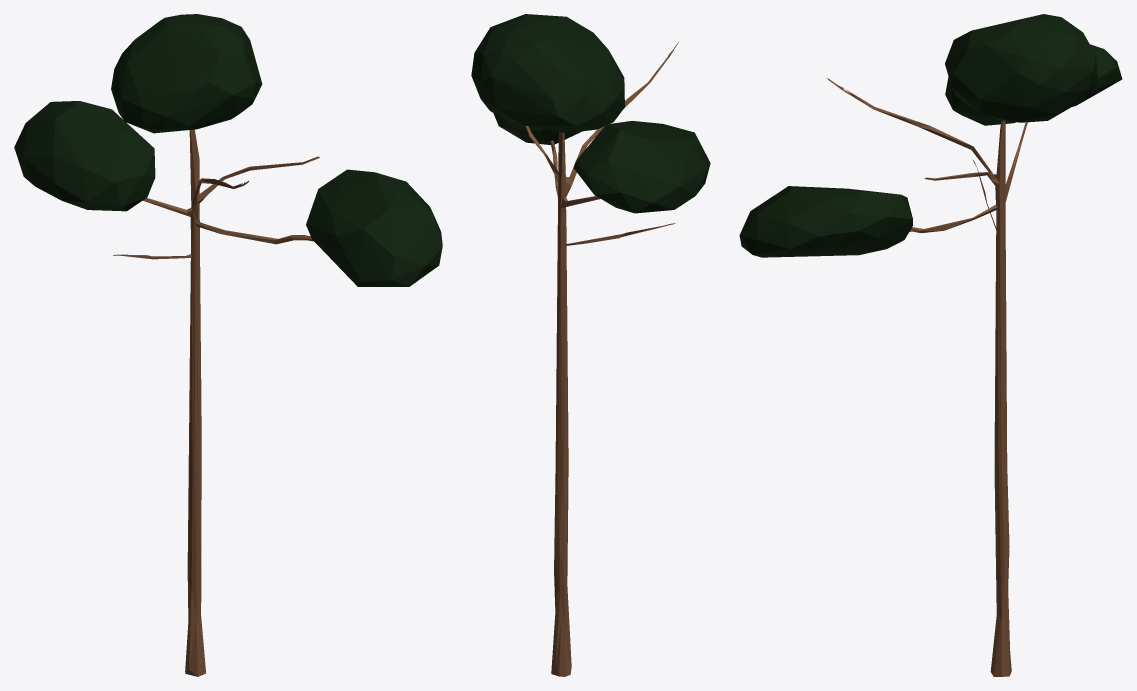
File: SM_tree_birch_02.fbx
3 renders of one model, left to right at view 1: azimuth 30°, elevation 25°; view 2: azimuth 150°, elevation 25°; view 3: azimuth 270°, elevation 25°, orthographic. The views are drawn at different scales.
Visible parts, largest first — view 1: Object086; view 2: Object086; view 3: Object086.
Part boxes in pixels (left/top/right/bottom): Object086: left=14, top=14, right=442, bottom=676; Object086: left=471, top=14, right=710, bottom=676; Object086: left=739, top=14, right=1122, bottom=676.
Bounding box in the file's own units: 128 × 140 × 266.
